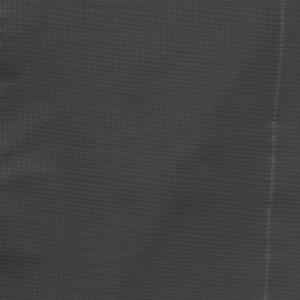Wrinkle: (93, 1, 299, 300), (1, 120, 59, 273), (1, 22, 31, 109)
